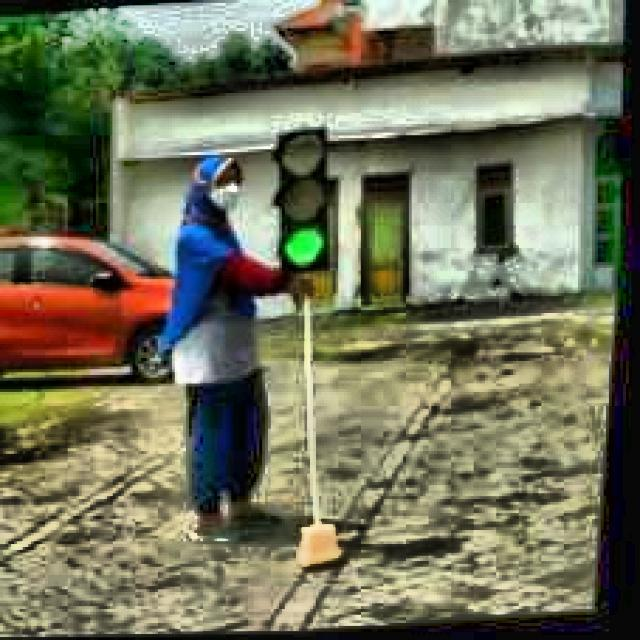green: (271, 128, 338, 272)
